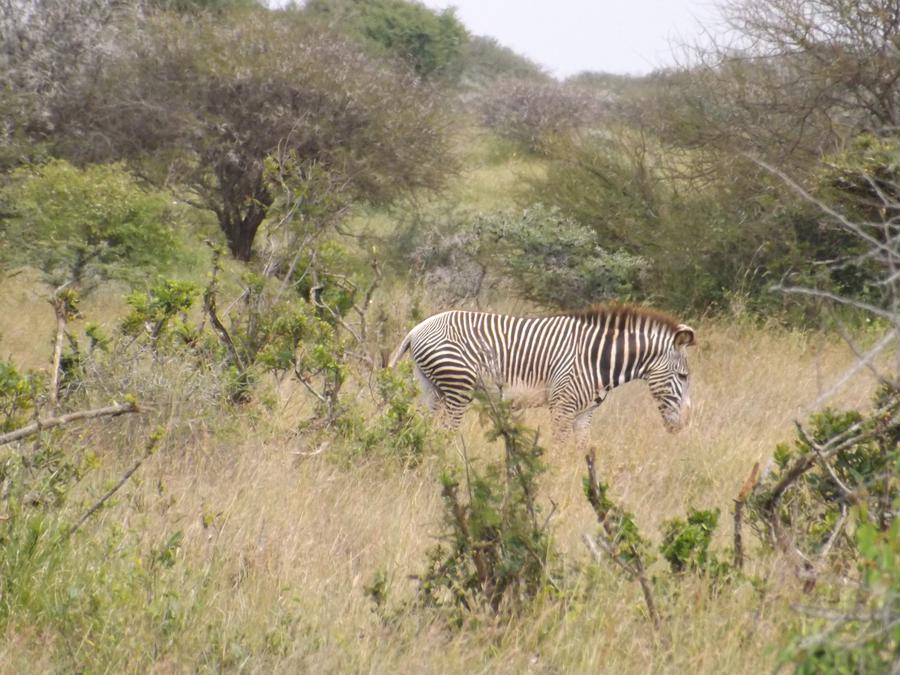zebra_grevys: (412, 306, 589, 417)
